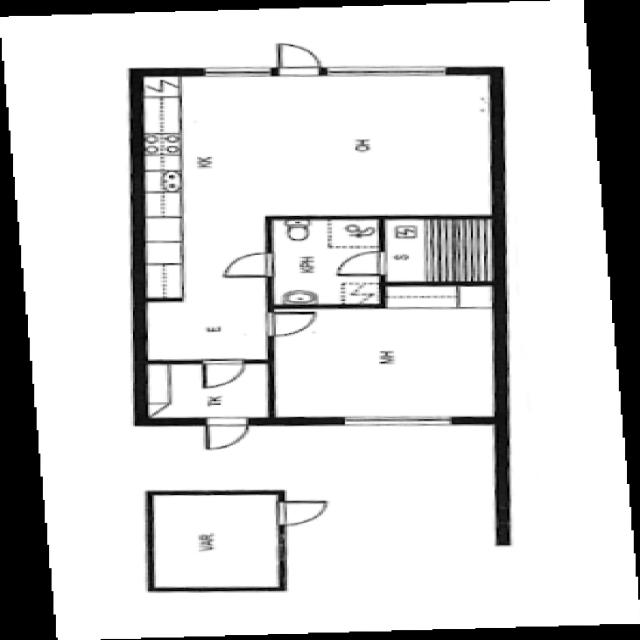door: (275, 218, 387, 306), (195, 414, 256, 456), (212, 248, 284, 282), (194, 356, 255, 394), (257, 307, 324, 341), (332, 248, 393, 282), (270, 497, 336, 528), (272, 40, 325, 78)
window: (328, 410, 465, 431), (320, 61, 453, 81), (190, 62, 280, 81), (273, 530, 291, 564)
zone: (138, 70, 502, 218), (272, 292, 504, 423), (136, 216, 277, 360), (150, 492, 284, 589), (270, 215, 386, 308), (380, 215, 500, 285), (139, 363, 269, 425)
